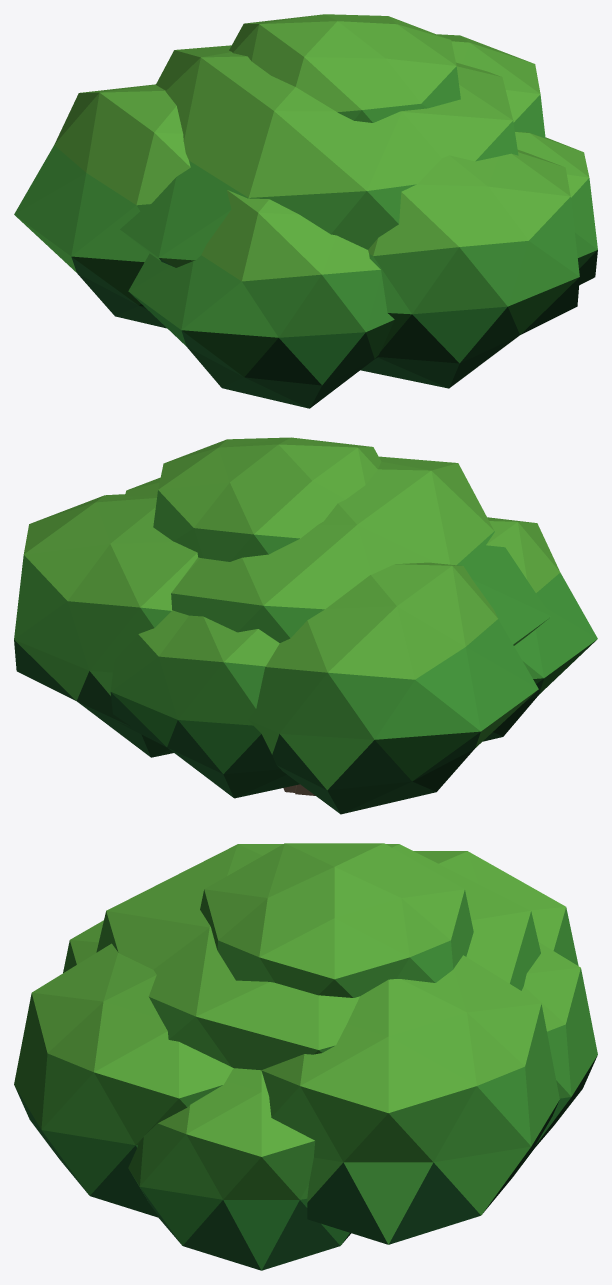
File: shrub_bush.glb
3 views of the same model, one above another, from view 1: azimuth 30°, elevation 25°; view 2: azimuth 150°, elevation 25°; view 3: azimuth 270°, elevation 25° (orthographic). The views are drawn at different scales.
Parts seen in each view (by area): view 1: shrub_bush_foliage; view 2: shrub_bush_foliage; view 3: shrub_bush_foliage.
Boxes of the visible parts, x1,y1,x2,y2 form: shrub_bush_foliage: (14, 14, 597, 408); shrub_bush_foliage: (14, 437, 597, 814); shrub_bush_foliage: (14, 843, 597, 1270).
Size of the model in its own units: 1.94 by 1.29 by 1.84.
